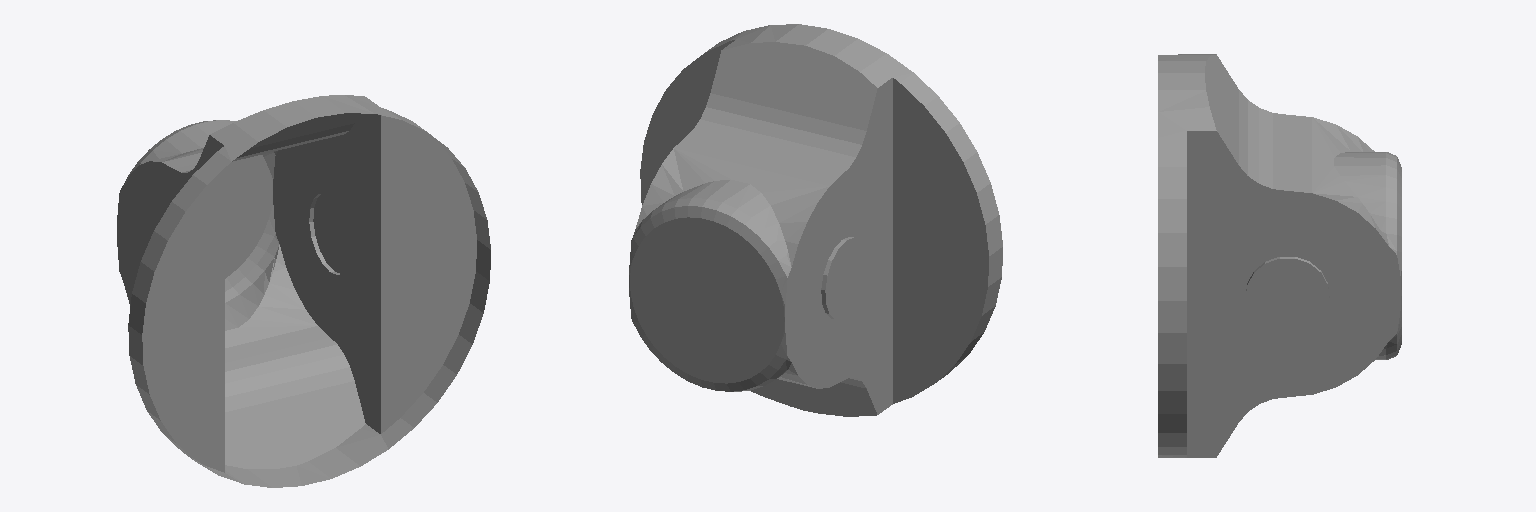
The model's file is wamUpperWristYawLink.obj.
3 views of the same model, side by side, from view 1: azimuth 30°, elevation 25°; view 2: azimuth 150°, elevation 25°; view 3: azimuth 270°, elevation 25° (orthographic).
Parts seen in each view (by area): view 1: wamUpperWristYawLink; view 2: wamUpperWristYawLink; view 3: wamUpperWristYawLink.
Boxes of the visible parts, <box> form: wamUpperWristYawLink: <box>117,95,490,487</box>; wamUpperWristYawLink: <box>629,24,1002,416</box>; wamUpperWristYawLink: <box>1158,54,1401,457</box>.
Size of the model in its own units: 0.0849 by 0.085 by 0.0512.